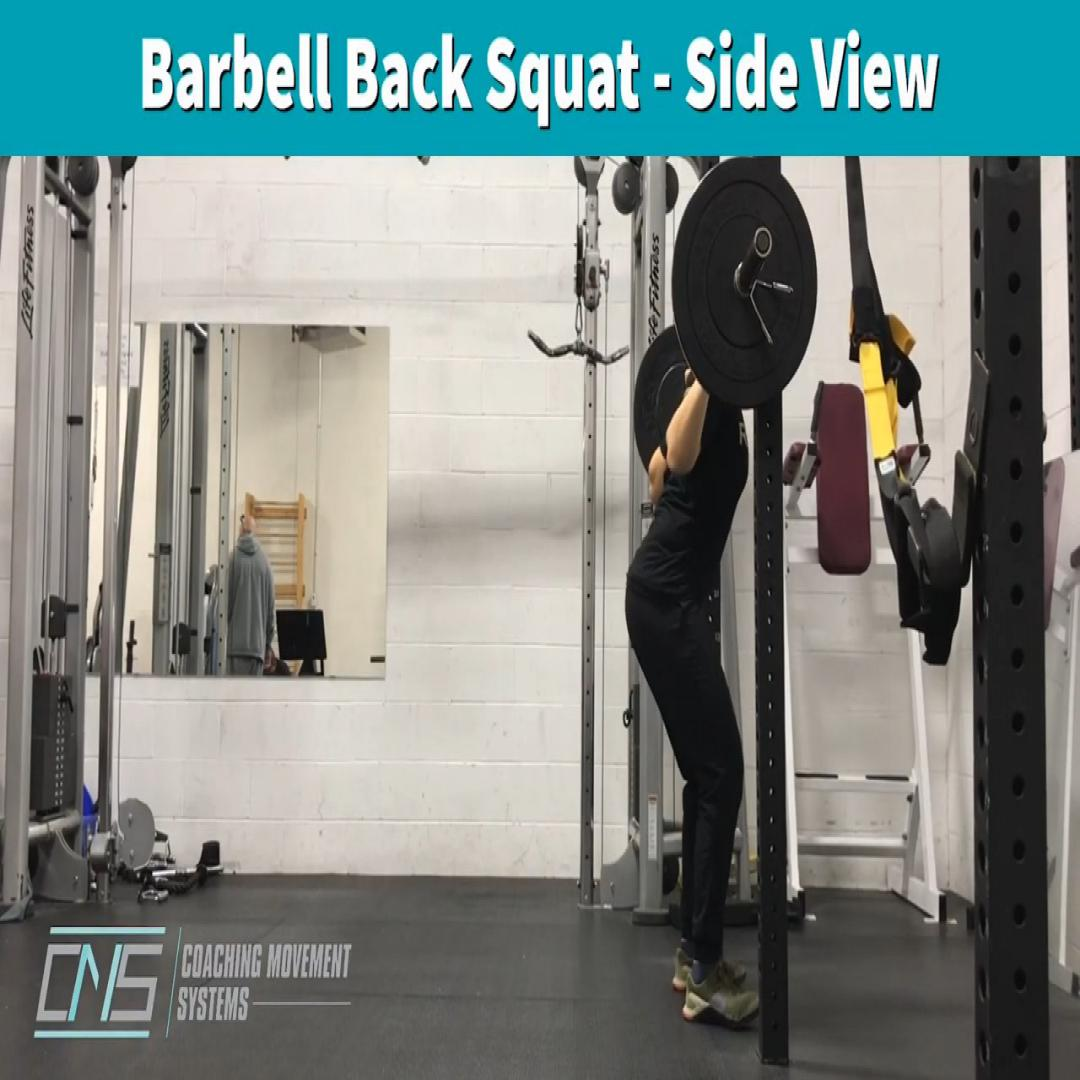Bar: (754, 228, 772, 256)
Barbell: (673, 159, 817, 403)
